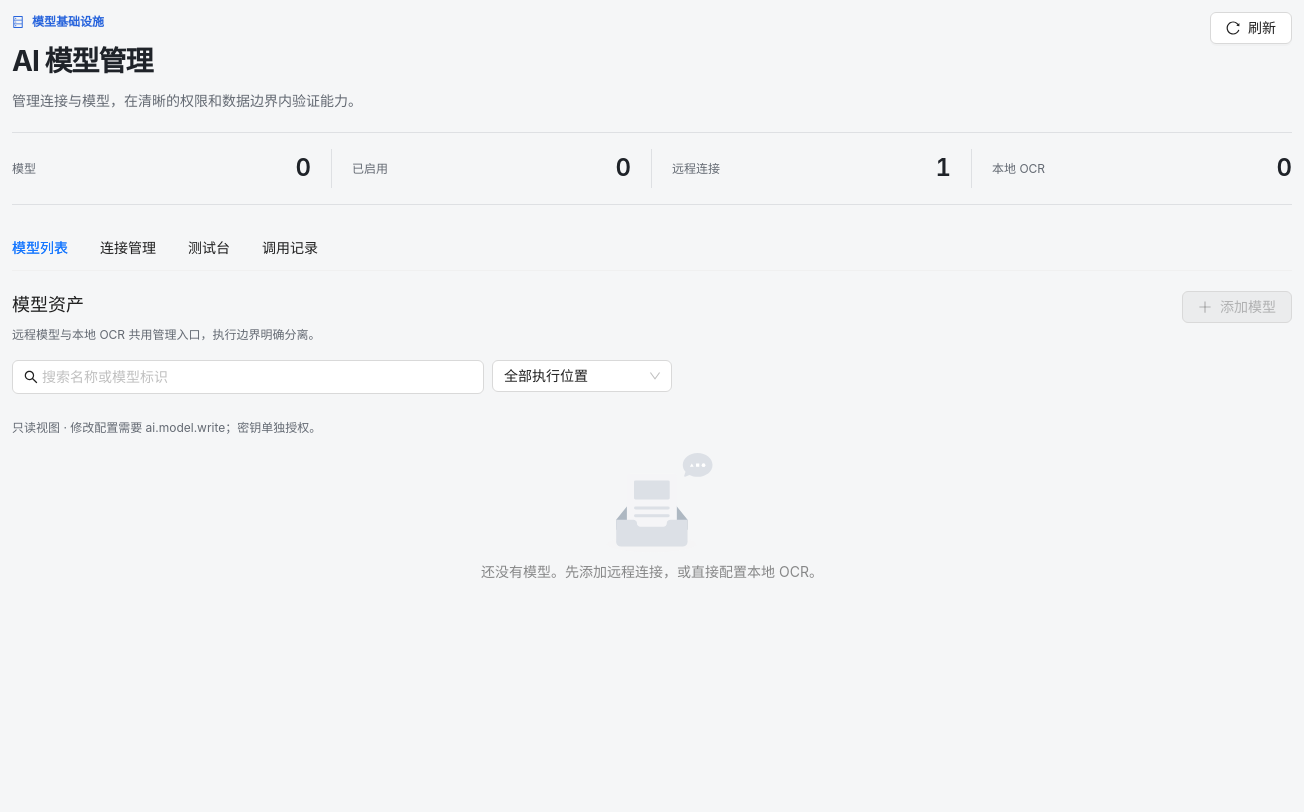
Test: permission boundaries and low-risk logs › read-only users cannot write, set secrets, test or read metadata logs
Expected: the button "添加模型" is disabled, [1182,291,1292,323]
Click the tab "连接管理" at (128,248), box [100,237,156,259]
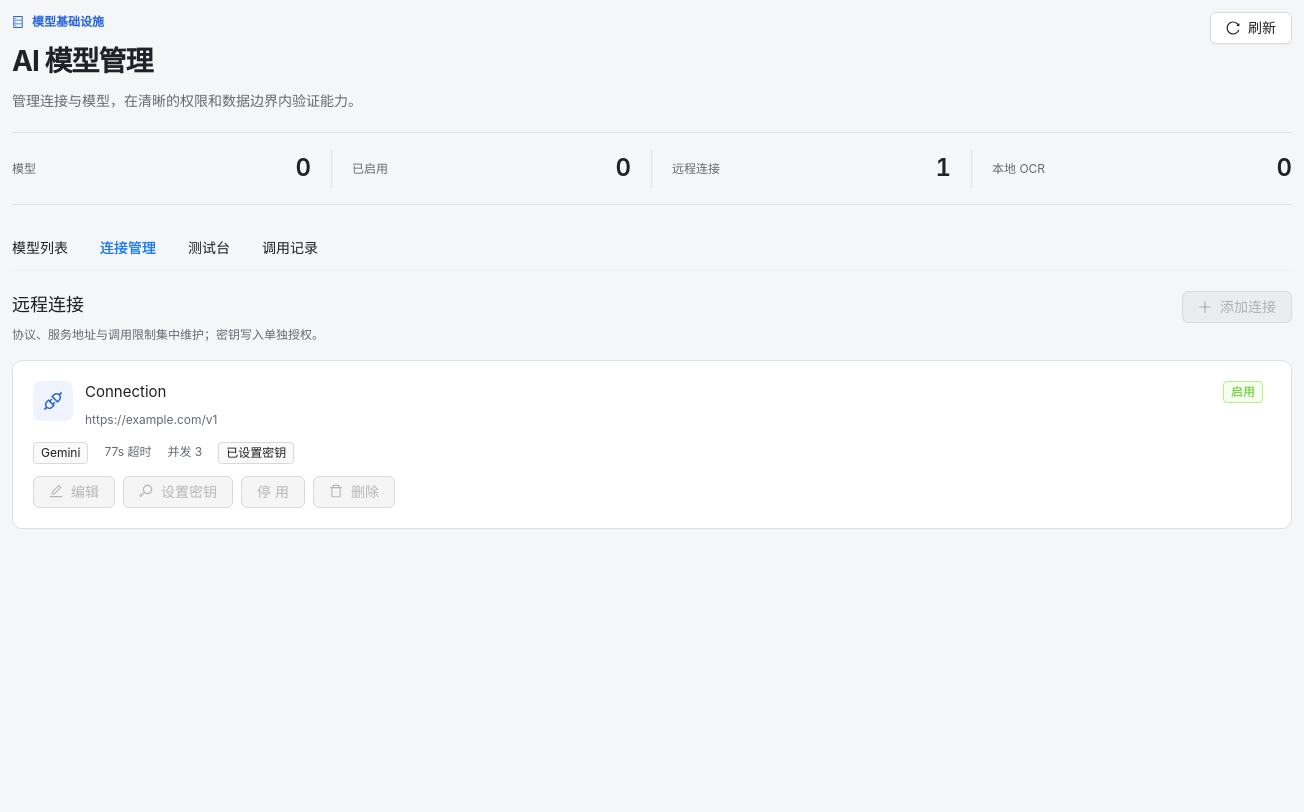
Now the button "设置密钥" is disabled, box [123,476,233,508]
Now the button "编辑" is disabled, box [33,476,115,508]
Click the tab "测试台" at (209,248), box [188,237,230,259]
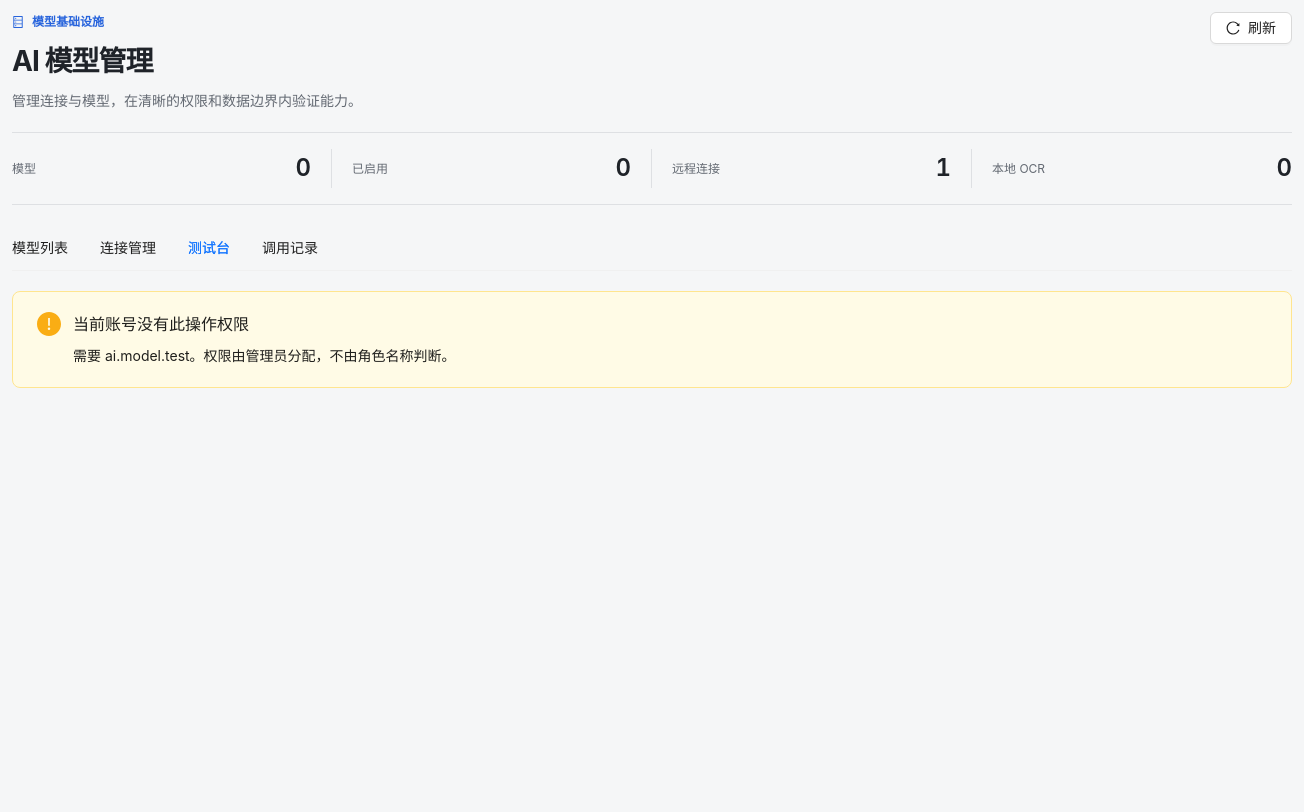
Now the text "ai.model.test" is shown, box [73,347,456,364]
Click the tab "调用记录" at (290,248), box [262,237,318,259]
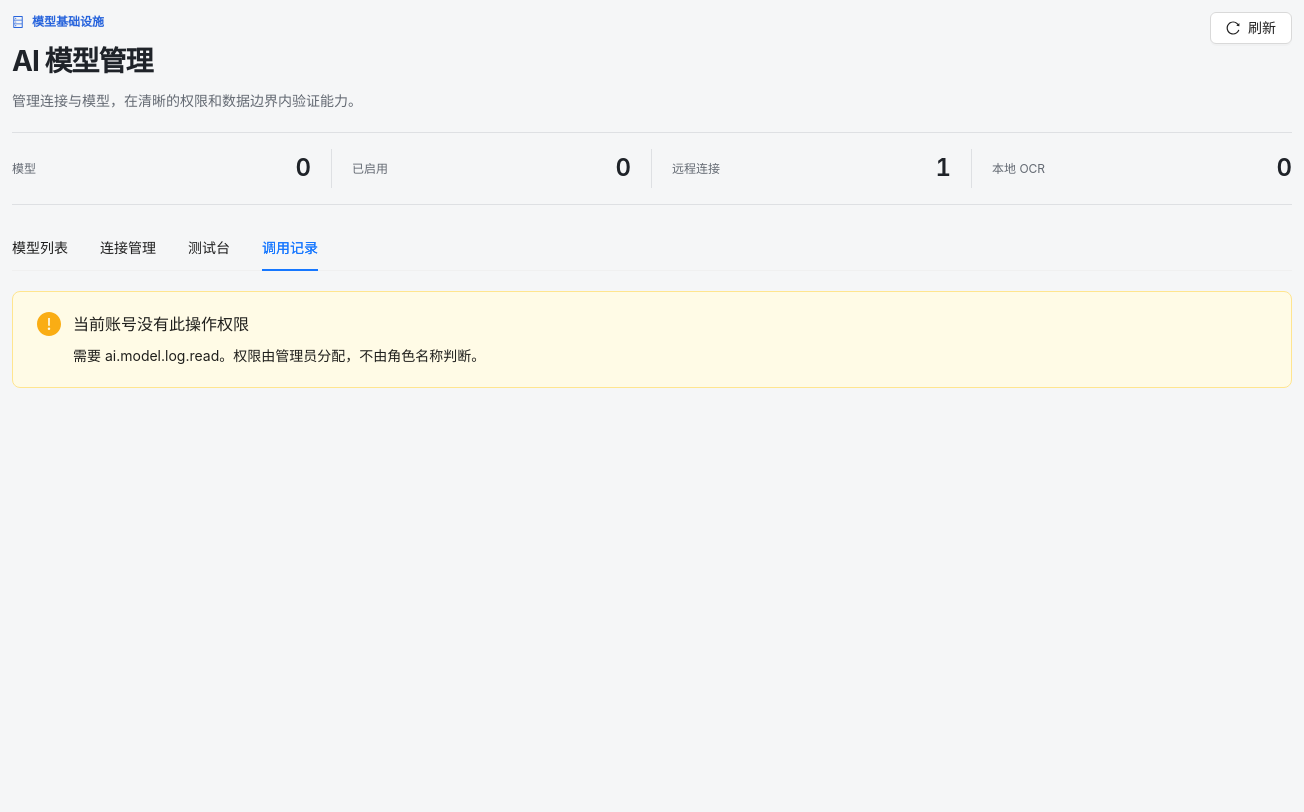
Now the text "ai.model.log.read" is shown, box [73,347,485,364]
